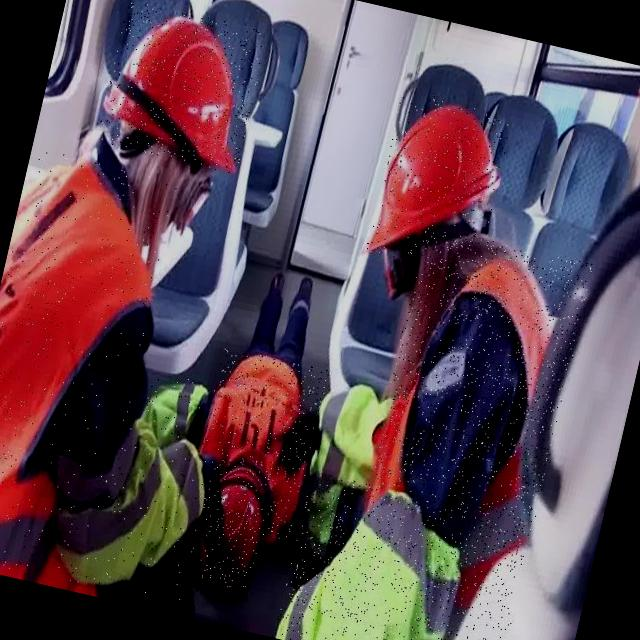helmet: (95, 0, 268, 174), (366, 89, 514, 276), (194, 458, 275, 592)
vest: (336, 225, 594, 640), (0, 147, 181, 590), (273, 471, 476, 640), (40, 414, 217, 604), (184, 346, 328, 545), (299, 369, 394, 522), (138, 371, 208, 446)
